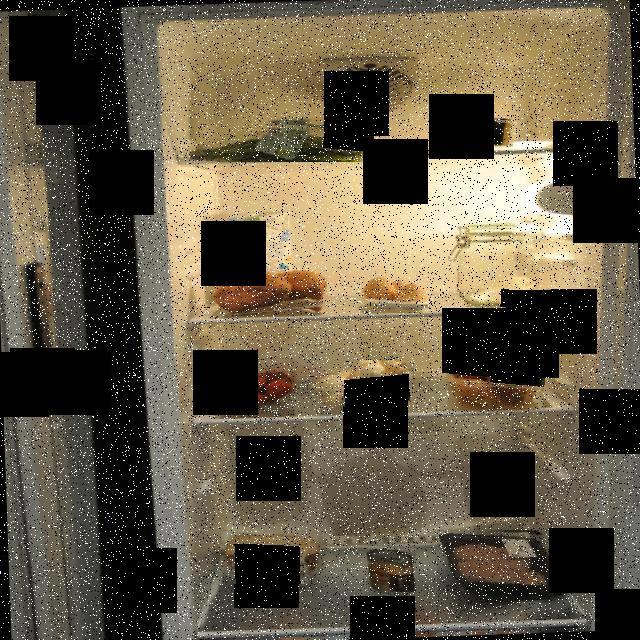bread: (216, 527, 322, 584)
cheese: (457, 116, 515, 148)
chicken_breast: (437, 526, 574, 596)
corn: (362, 542, 417, 592)
eggs: (354, 269, 430, 313)
flour: (446, 215, 556, 308)
green_beans: (190, 116, 374, 162)
milk: (222, 204, 302, 310)
mushrooms: (312, 360, 414, 410)
onion: (446, 336, 548, 409)
strawberries: (213, 357, 300, 411)
sweet_potato: (204, 270, 327, 318)
